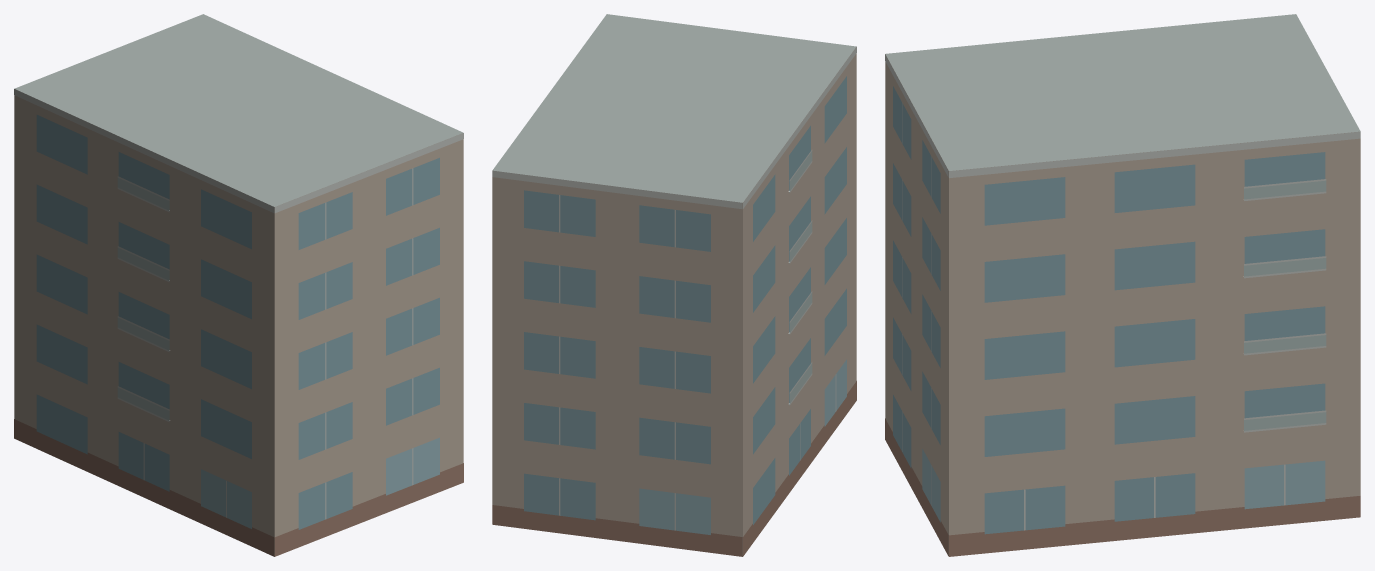
The model's file is survey-upis-32951917.glb.
3 renders of one model, left to right at view 1: azimuth 30°, elevation 25°; view 2: azimuth 150°, elevation 25°; view 3: azimuth 270°, elevation 25°, orthographic. The views are drawn at different scales.
Parts seen in each view (by area): view 1: survey-upis-32951917.tmp; view 2: survey-upis-32951917.tmp; view 3: survey-upis-32951917.tmp.
Part boxes in pixels (x1=…): survey-upis-32951917.tmp: x1=14, y1=14, x2=463, y2=556; survey-upis-32951917.tmp: x1=492, y1=14, x2=856, y2=556; survey-upis-32951917.tmp: x1=885, y1=14, x2=1360, y2=556.
Size of the model in its own units: 11.63 by 13.31 by 14.88.
